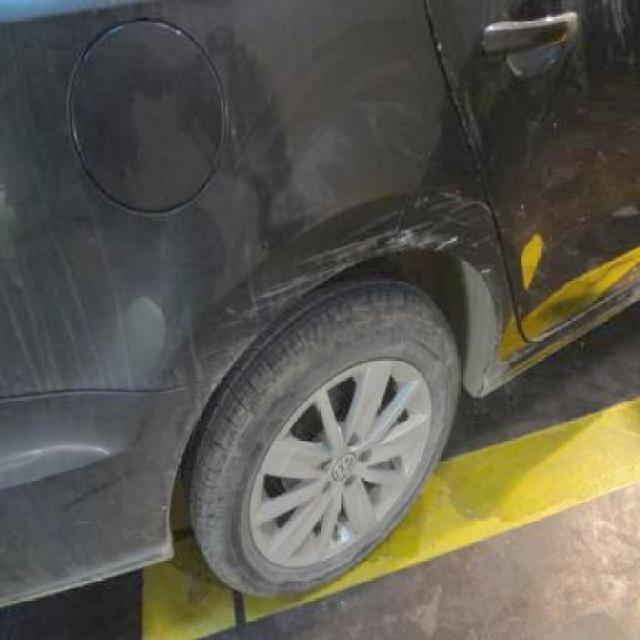car damage: (503, 237, 624, 356)
